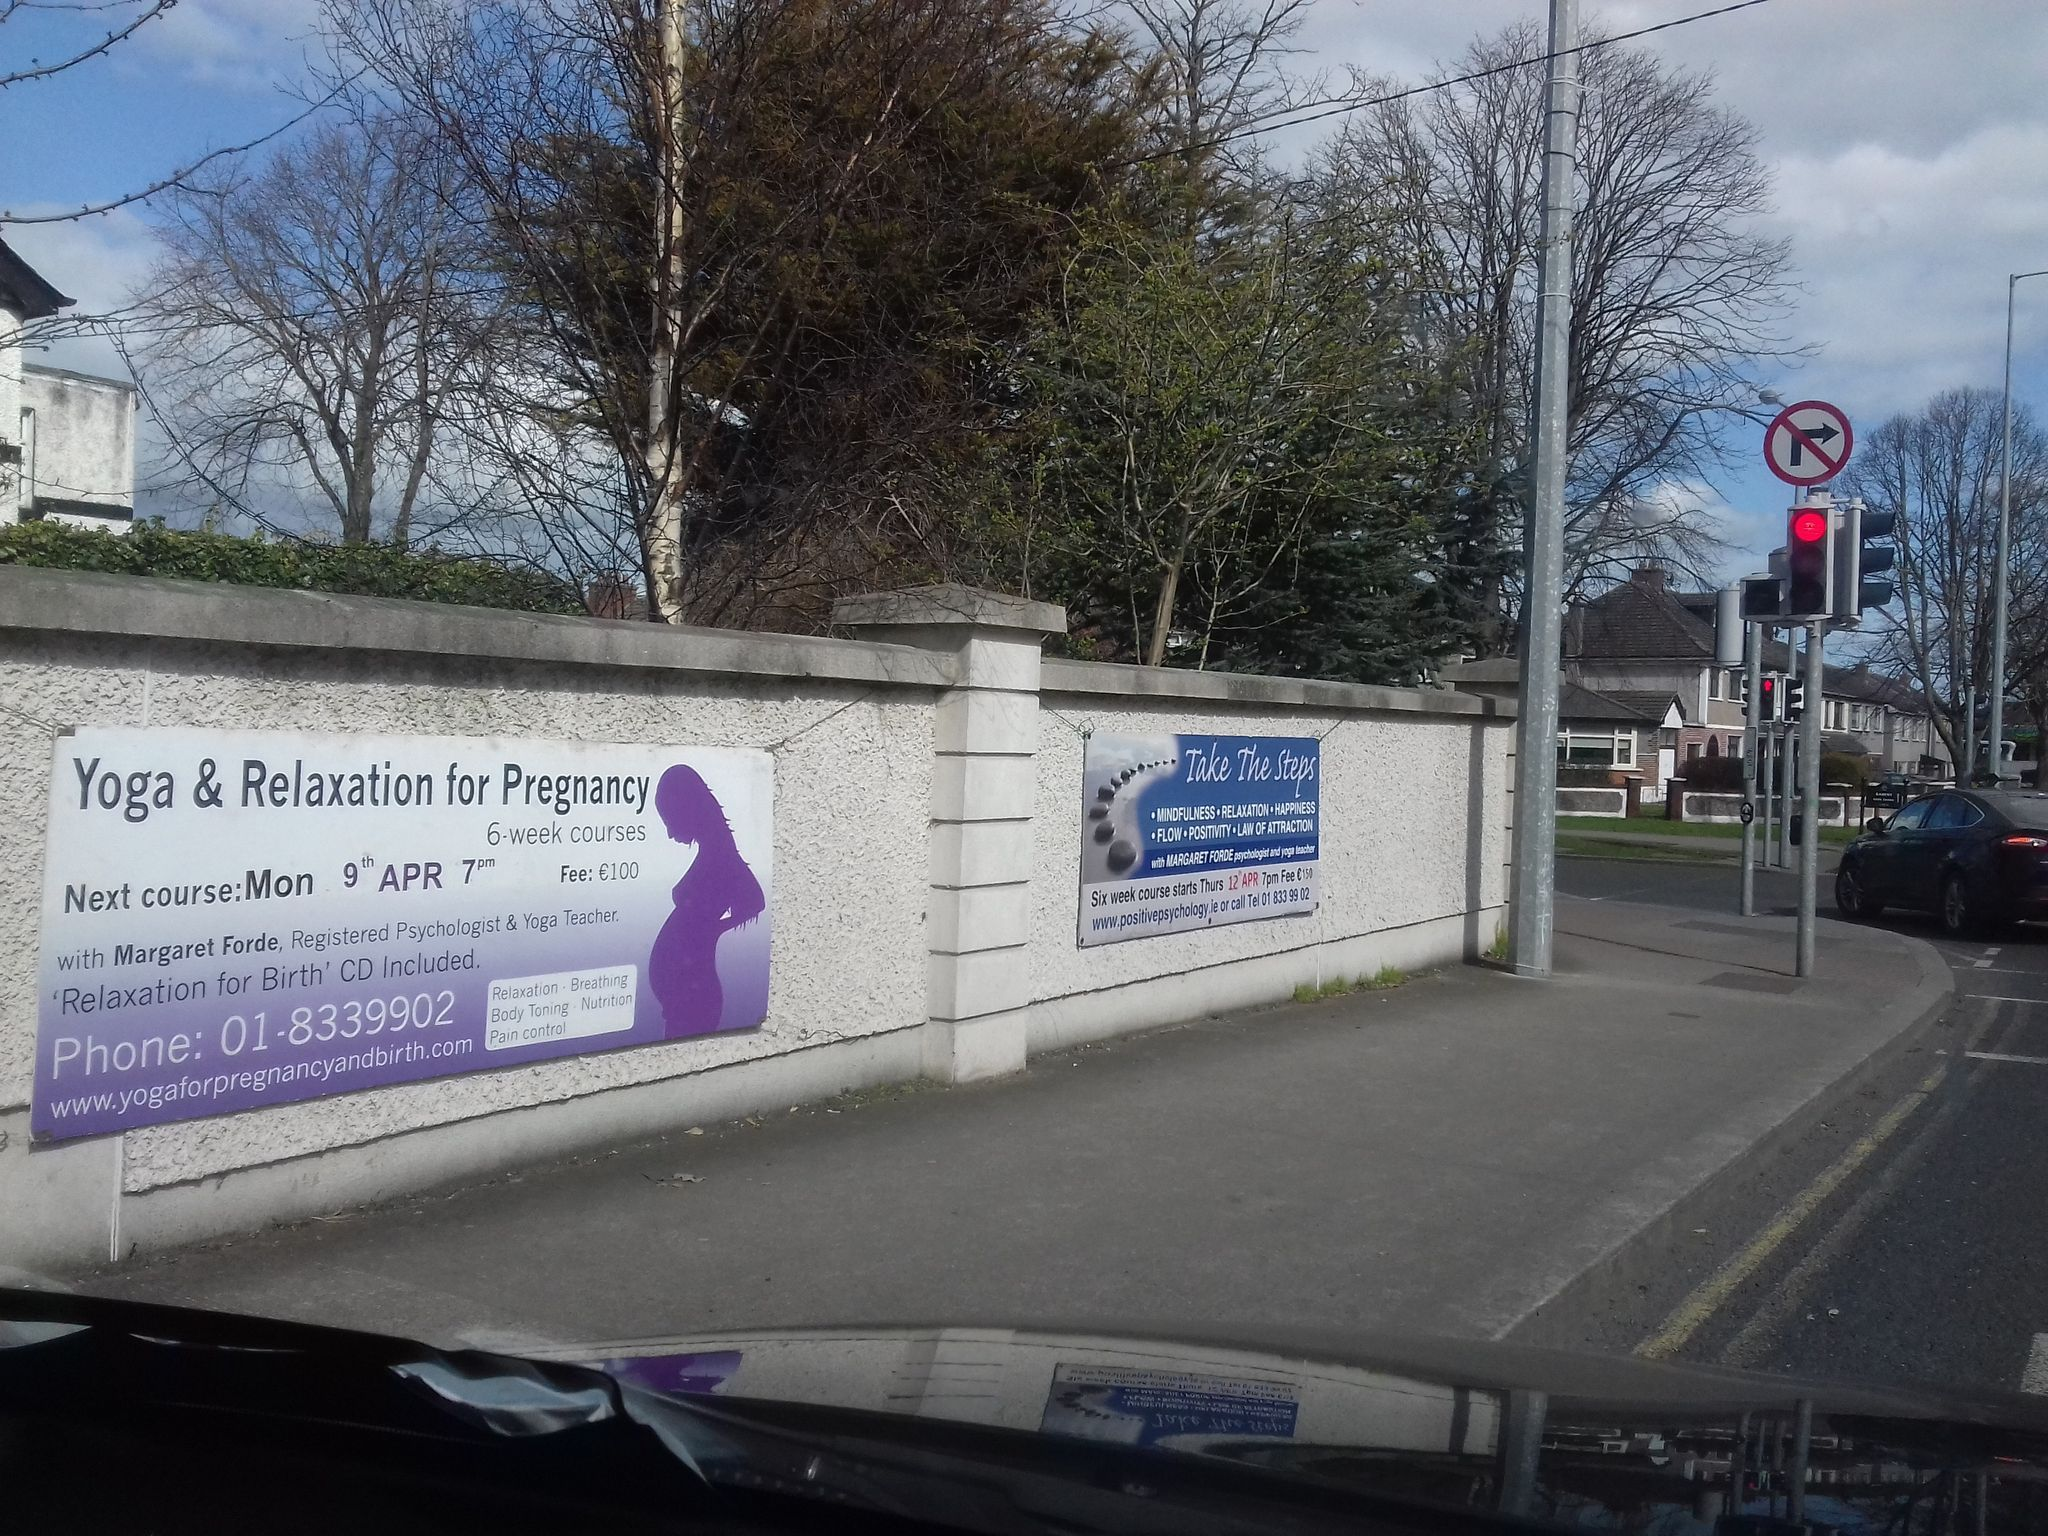vinyl banner: (32, 726, 785, 1155), (1050, 700, 1350, 975)
